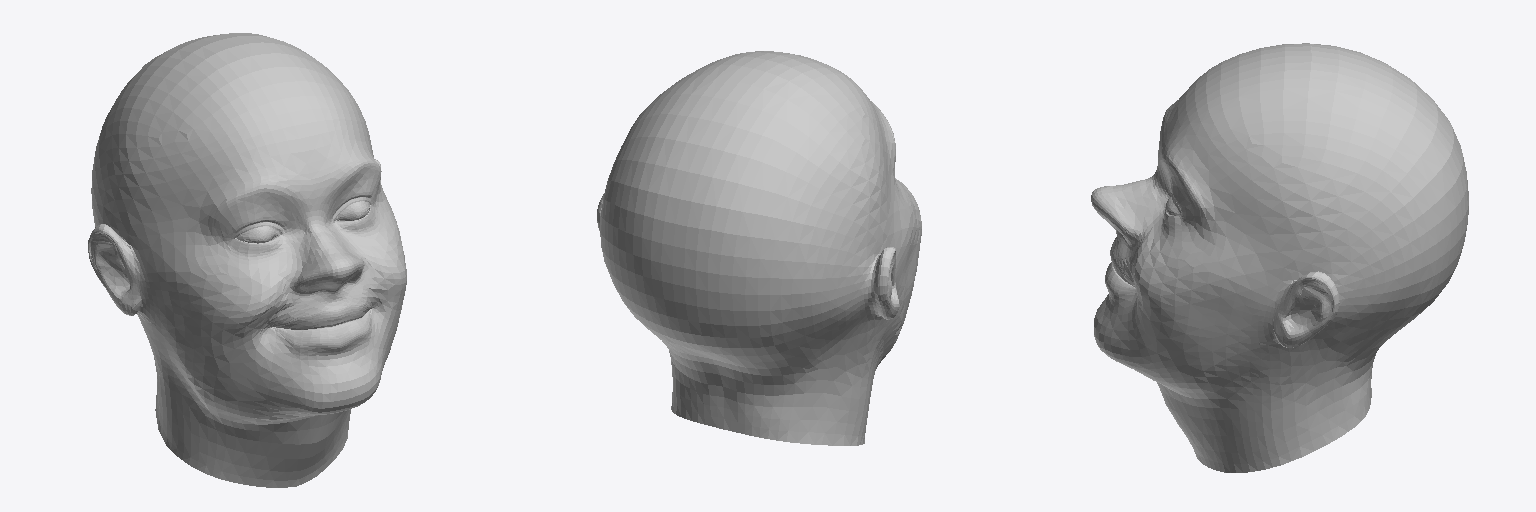
The picture shows the model from 3 angles: view 1: azimuth 30°, elevation 25°; view 2: azimuth 150°, elevation 25°; view 3: azimuth 270°, elevation 25°; orthographic projection.
Parts seen in each view (by area): view 1: FaceGen; view 2: FaceGen; view 3: FaceGen.
Boxes of the visible parts, <box> form: FaceGen: <box>88,33,406,487</box>; FaceGen: <box>597,51,921,445</box>; FaceGen: <box>1091,43,1468,472</box>.
Bounding box in the file's own units: 211 × 279 × 240.